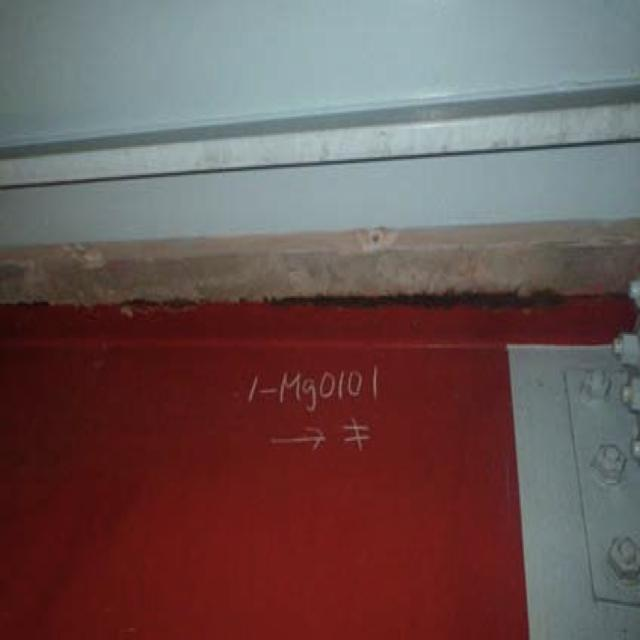corrosion: (47, 251, 579, 326)
